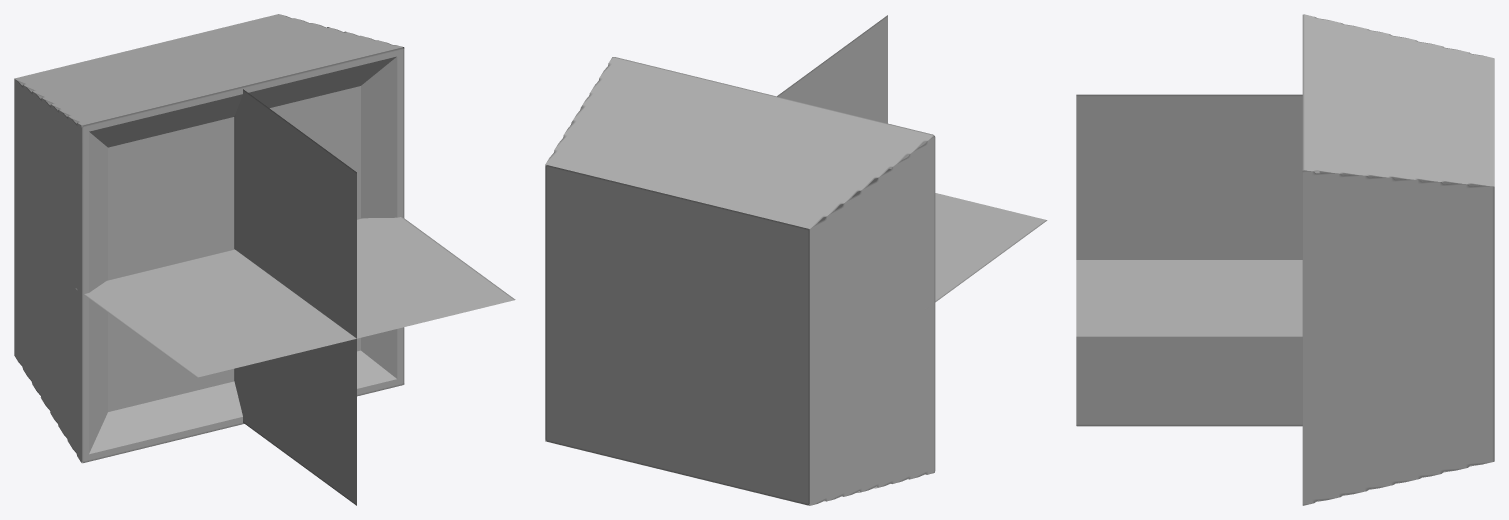
The model's file is pz_plant_native_24.obj.
3 views of the same model, side by side, from view 1: azimuth 30°, elevation 25°; view 2: azimuth 150°, elevation 25°; view 3: azimuth 270°, elevation 25° (orthographic).
Visible parts, largest first — view 1: pot_soil_and_rim, foliage_PNG_crossed_cards; view 2: pot_soil_and_rim, foliage_PNG_crossed_cards; view 3: pot_soil_and_rim, foliage_PNG_crossed_cards.
Part boxes in pixels (box(x1,y1,x2,y2)): pot_soil_and_rim: box(14, 14, 404, 463); foliage_PNG_crossed_cards: box(75, 89, 515, 505); pot_soil_and_rim: box(545, 57, 935, 505); foliage_PNG_crossed_cards: box(777, 15, 1047, 309); pot_soil_and_rim: box(1302, 14, 1494, 505); foliage_PNG_crossed_cards: box(1076, 94, 1302, 426).
Bounding box in the file's own units: 0.54 × 0.54 × 0.61.
1 material, 1 textured.
